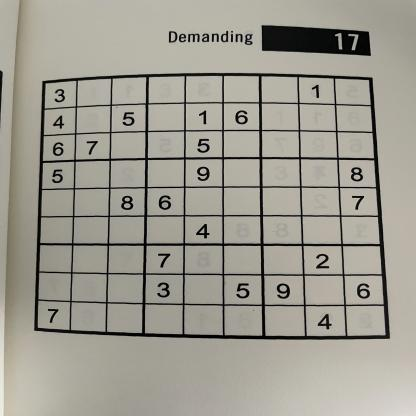sudoku: (27, 70, 393, 343)
